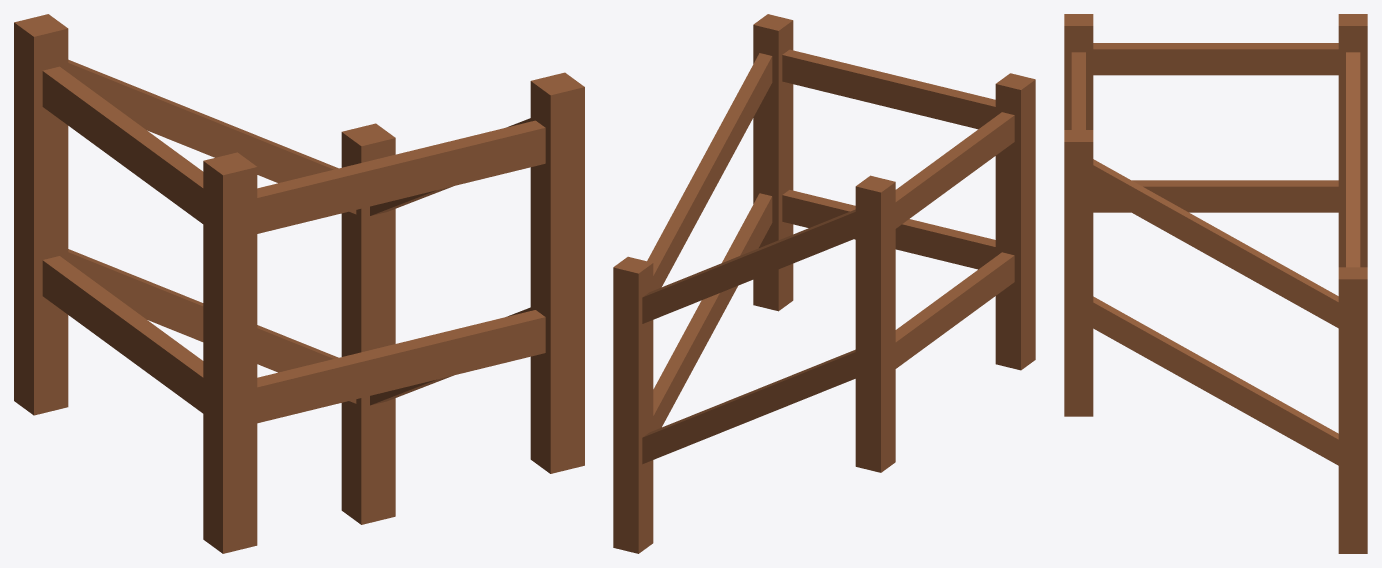
File: ObstacleHighCornerDownWards.obj
The picture shows the model from 3 angles, left to right: view 1: azimuth 30°, elevation 25°; view 2: azimuth 150°, elevation 25°; view 3: azimuth 270°, elevation 25°; orthographic projection. The views are drawn at different scales.
Parts seen in each view (by area): view 1: woodStructure_high.002; view 2: woodStructure_high.002; view 3: woodStructure_high.002.
Part boxes in pixels (x1,y1,x2,y2): woodStructure_high.002: (14,14,584,553); woodStructure_high.002: (613,14,1035,553); woodStructure_high.002: (1064,14,1367,553).
Size of the model in its own units: 1 by 1.5 by 1.
